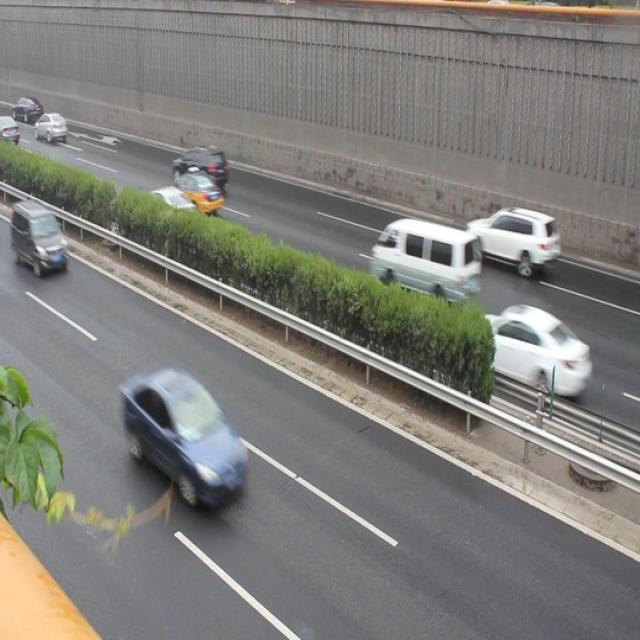car: (123, 368, 247, 505), (456, 305, 586, 398), (466, 201, 557, 275), (15, 202, 67, 274), (139, 186, 198, 236), (168, 167, 224, 216), (174, 142, 228, 190)
truck: (369, 217, 480, 303)
